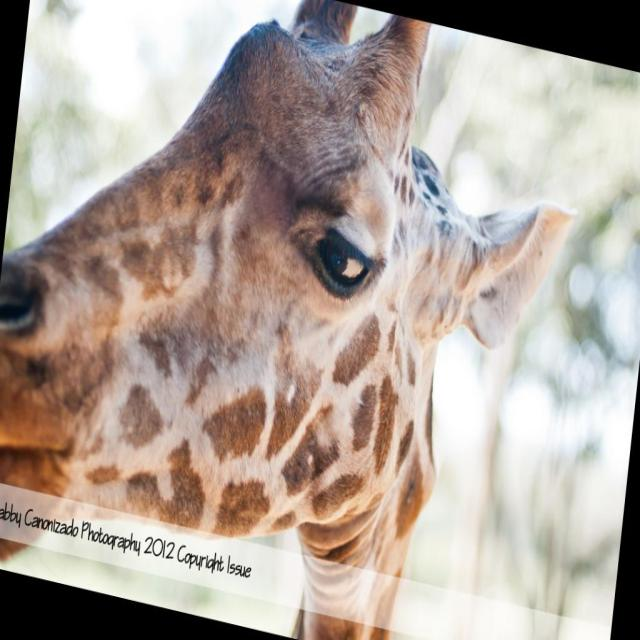Giraffe: (0, 0, 578, 640)
